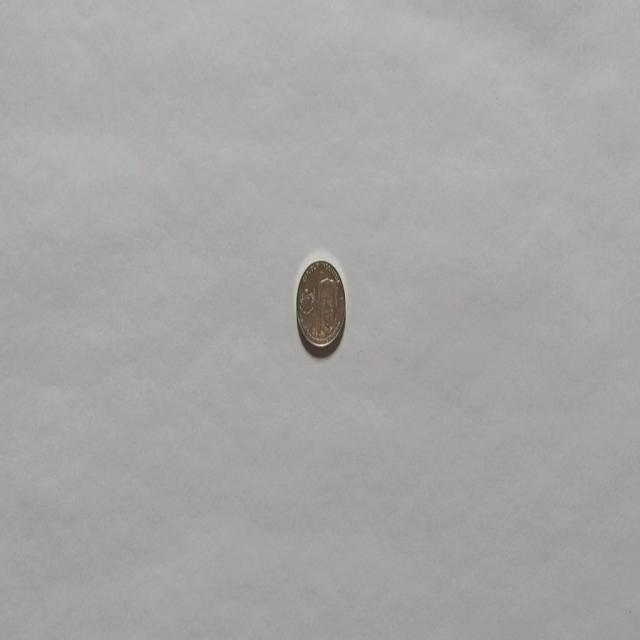seratus rupiah: (296, 258, 346, 350)
